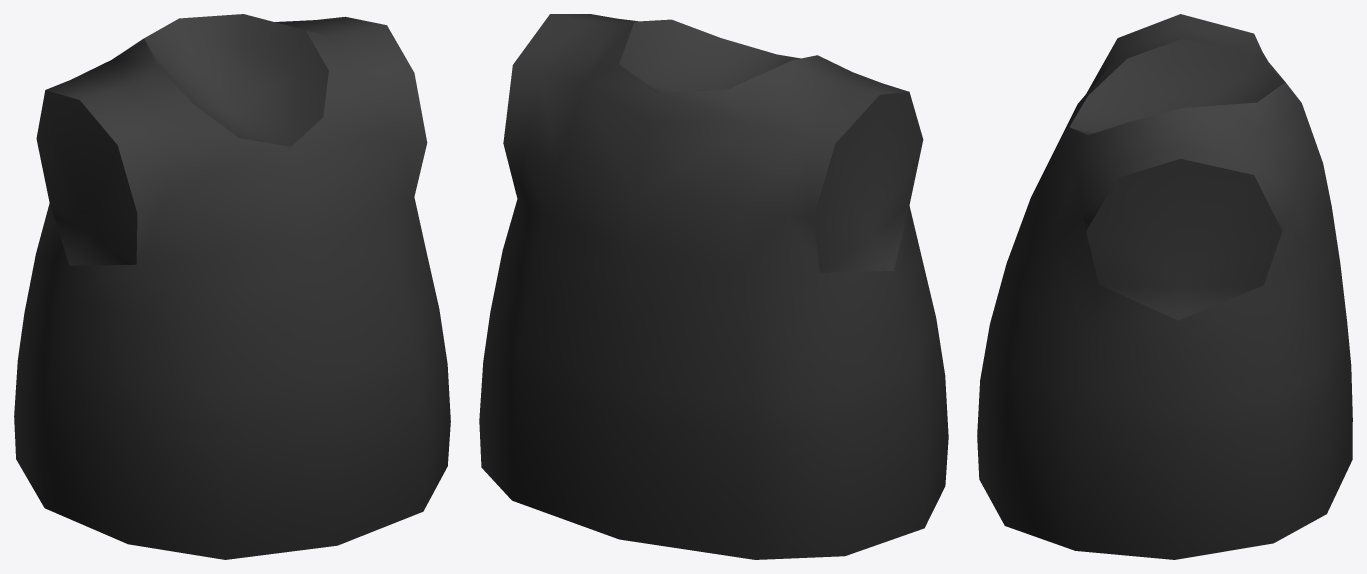
File: Top_02.fbx
3 views of the same model, side by side, from view 1: azimuth 30°, elevation 25°; view 2: azimuth 150°, elevation 25°; view 3: azimuth 270°, elevation 25° (orthographic). The views are drawn at different scales.
Parts seen in each view (by area): view 1: Top_02; view 2: Top_02; view 3: Top_02.
Boxes of the visible parts, bbox=[...] form: Top_02: bbox=[14, 14, 450, 559]; Top_02: bbox=[479, 14, 948, 559]; Top_02: bbox=[977, 14, 1352, 559].
Size of the model in its own units: 41 by 42.68 by 35.79.
